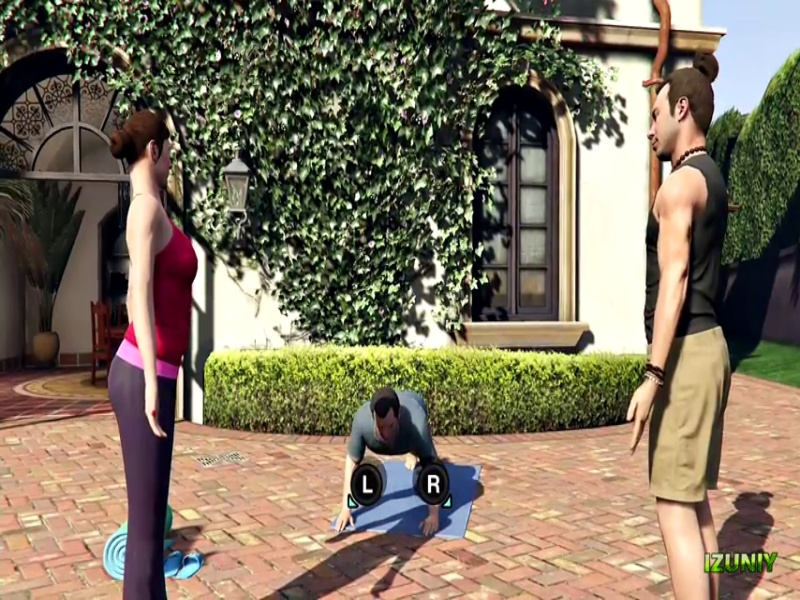licenseplate: (472, 342, 535, 389)
